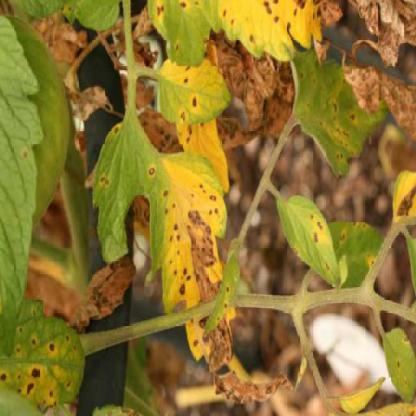tomato septoria leaf spot: (130, 117, 245, 367), (153, 47, 232, 134)
